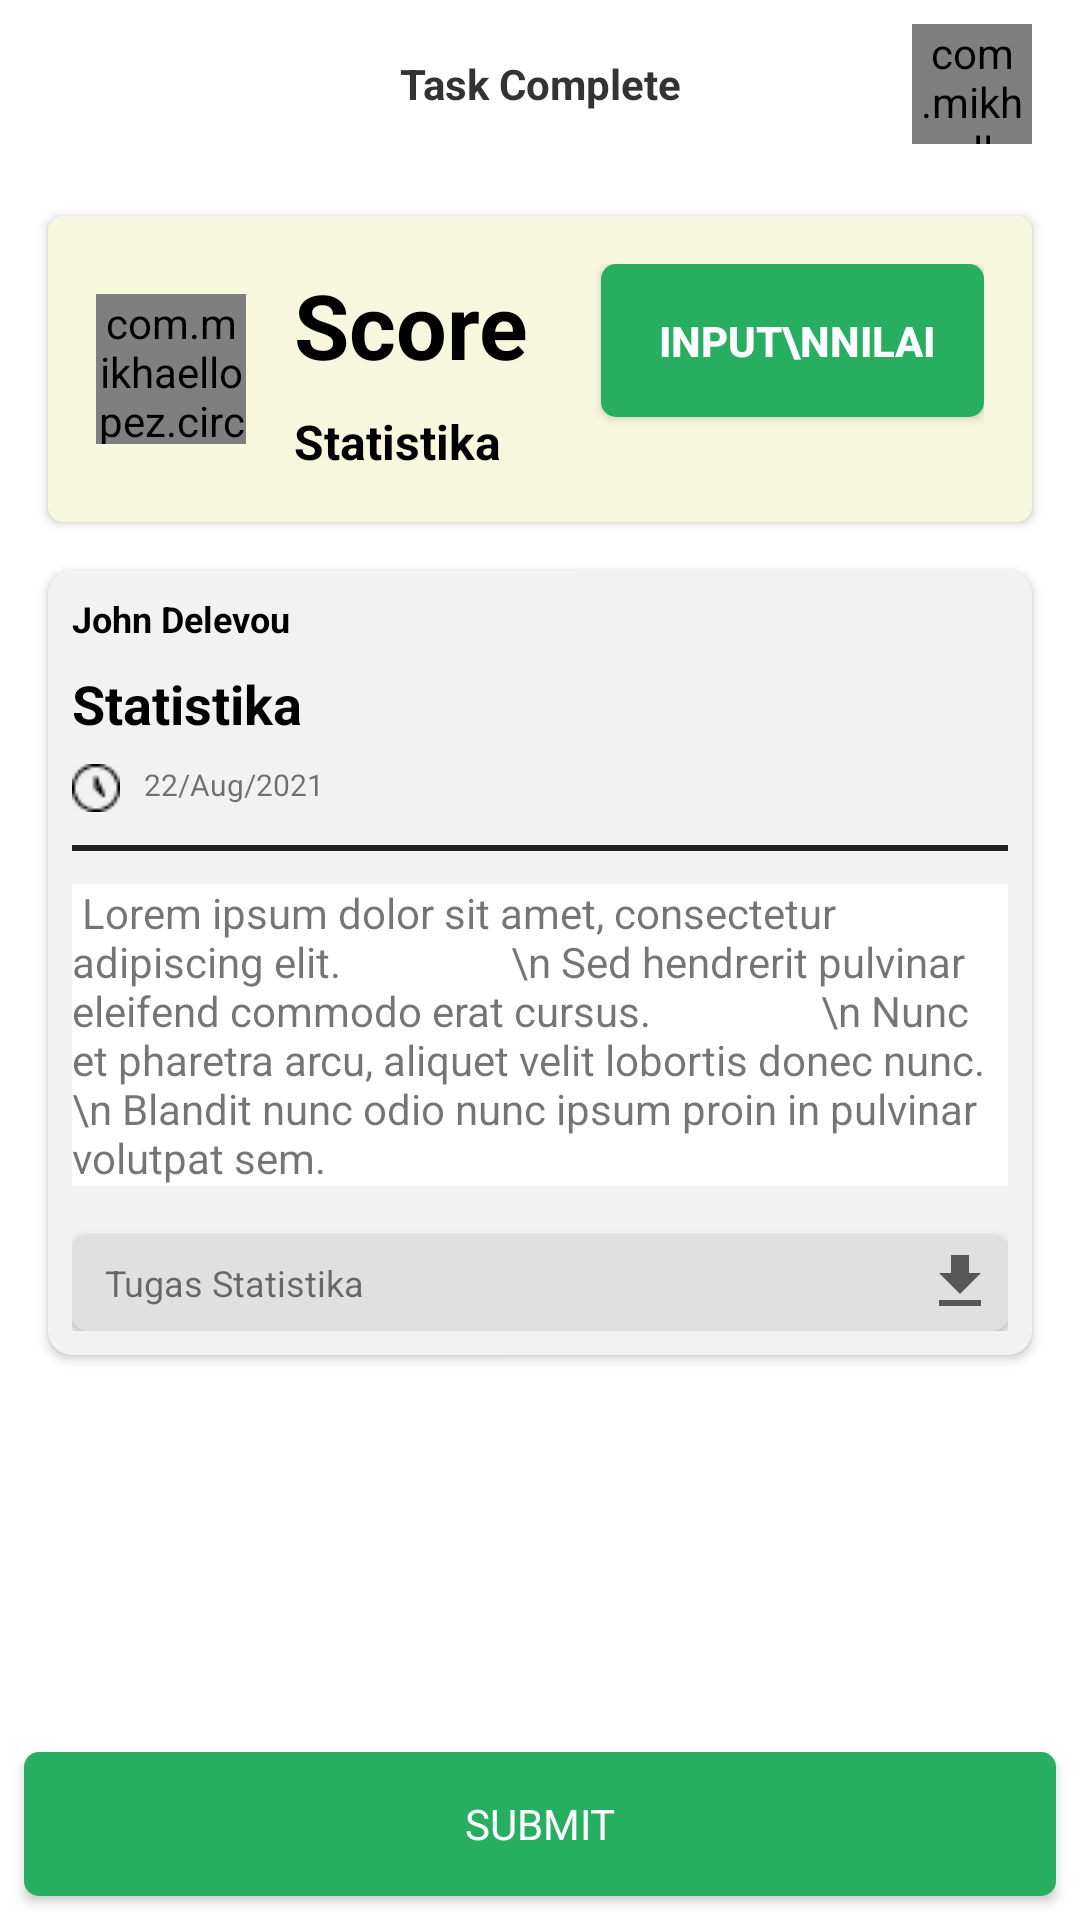

Icon bounding boxes for this 1080 x 1920 phone screenshot, format {"left": x1, "top": y1, "right": x2, "bottom": y2}:
clock: {"left": 72, "top": 764, "right": 120, "bottom": 812}
download: {"left": 939, "top": 1255, "right": 1001, "bottom": 1330}
